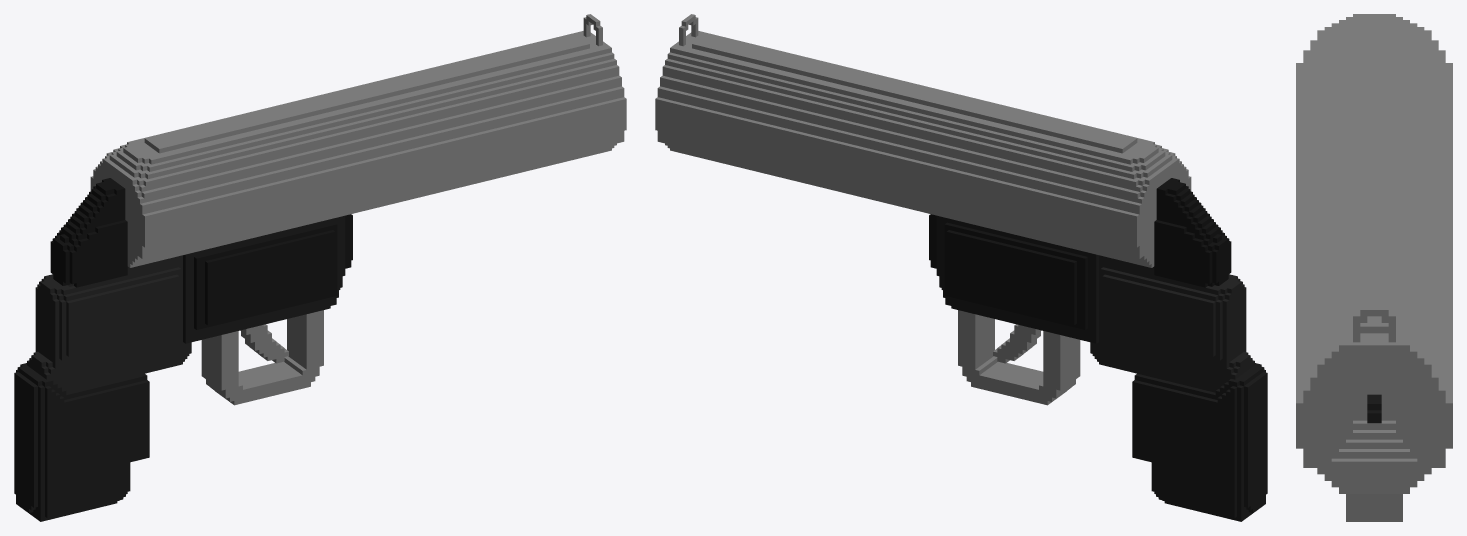
Rendered from Player_Gun.obj.
The picture shows the model from 3 angles, left to right: view 1: azimuth 30°, elevation 25°; view 2: azimuth 150°, elevation 25°; view 3: azimuth 270°, elevation 25°; orthographic projection. The views are drawn at different scales.
Bounding box in the file's own units: 13.5 × 8 × 2.2.
1 material, 1 textured.
